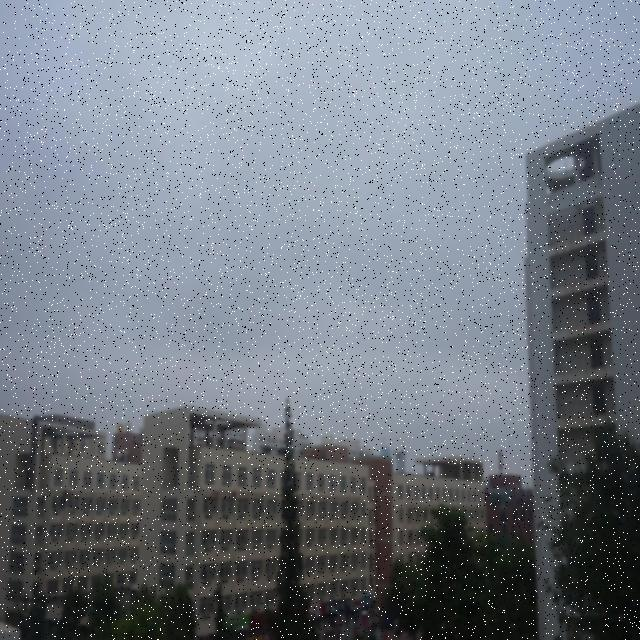UAV: (391, 450, 403, 460)
